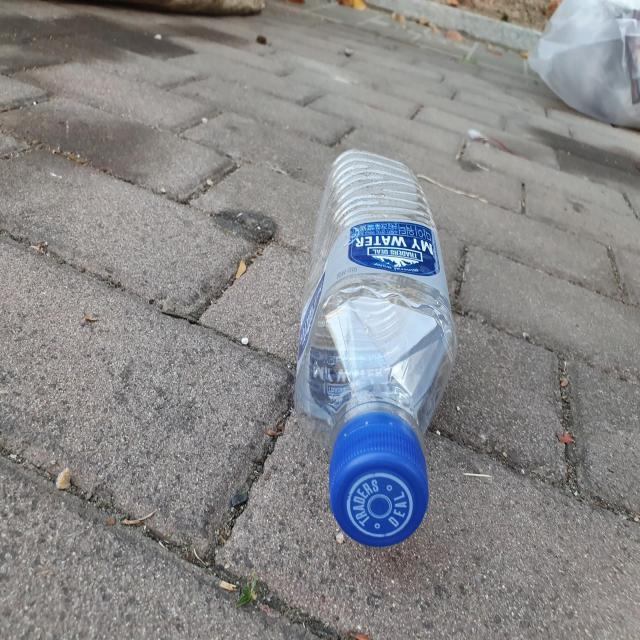plastic: (295, 149, 457, 547)
